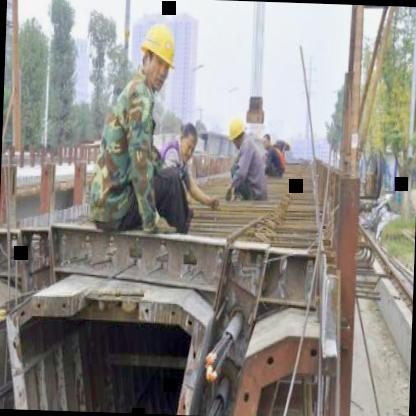head: (171, 114, 202, 169), (259, 131, 275, 153)
helmet: (136, 18, 180, 92), (226, 110, 249, 154)
